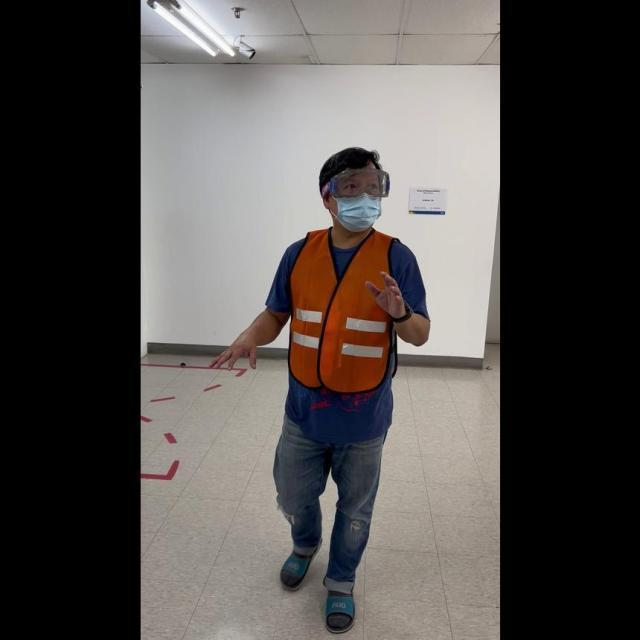bare_hand: (364, 267, 410, 320), (208, 329, 260, 371)
